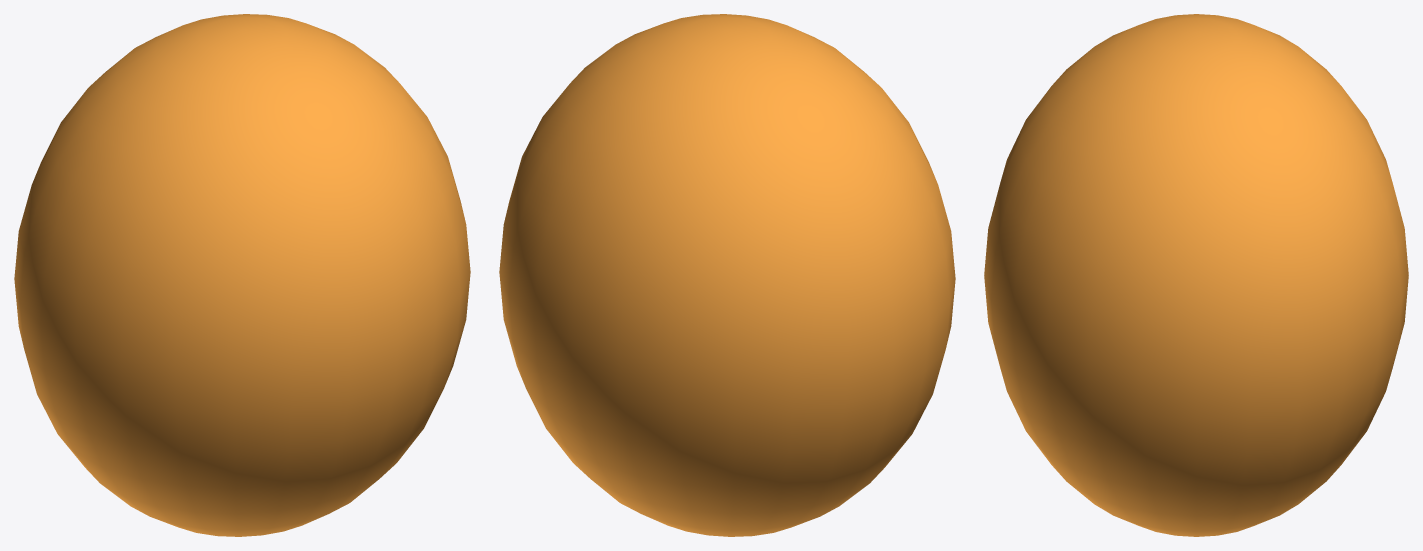
Rendered from example-head.glb.
The picture shows the model from 3 angles, left to right: view 1: azimuth 30°, elevation 25°; view 2: azimuth 150°, elevation 25°; view 3: azimuth 270°, elevation 25°; orthographic projection.
Visible parts, largest first — view 1: Head; view 2: Head; view 3: Head.
Part boxes in pixels (box(x1,y1,x2,y2)): Head: box(14, 14, 470, 536); Head: box(499, 14, 955, 536); Head: box(984, 14, 1408, 536).
Bounding box in the file's own units: 1 × 1.16 × 0.92.
